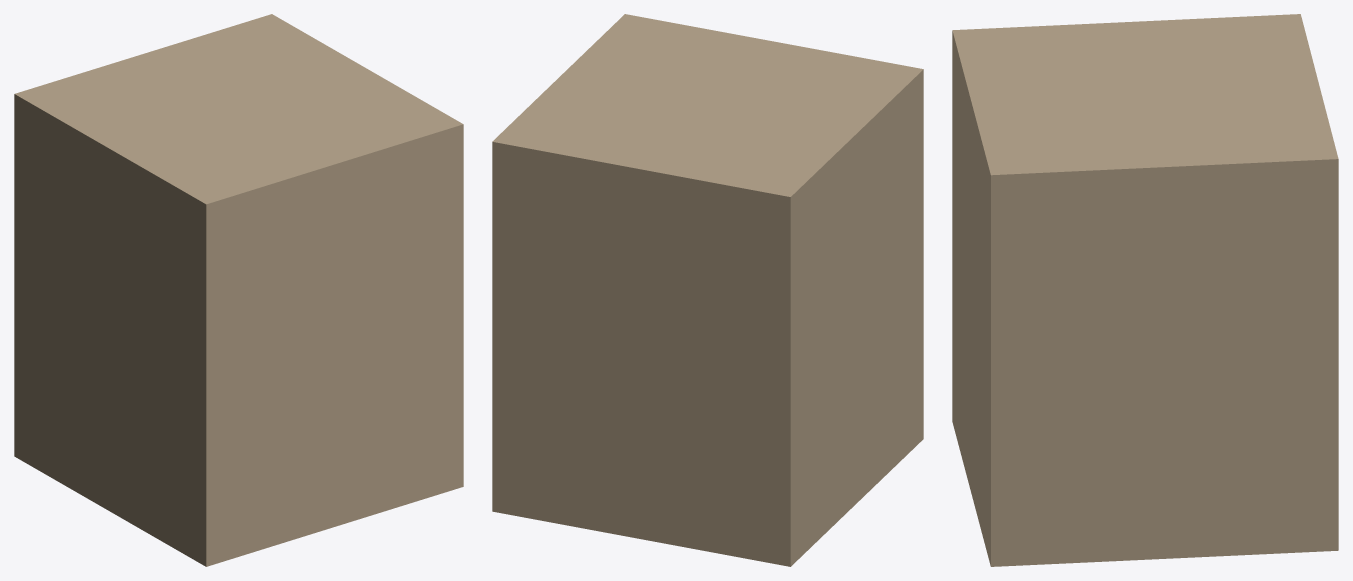
The model's file is bld_106338925.dae.
The picture shows the model from 3 angles, left to right: view 1: azimuth 30°, elevation 25°; view 2: azimuth 150°, elevation 25°; view 3: azimuth 270°, elevation 25°; orthographic projection. The views are drawn at different scales.
Parts seen in each view (by area): view 1: bld_106338925; view 2: bld_106338925; view 3: bld_106338925.
Boxes of the visible parts, x1,y1,x2,y2 form: bld_106338925: (14,14,463,566); bld_106338925: (492,14,923,566); bld_106338925: (952,14,1338,566).
Size of the model in its own units: 7.06 by 7.15 by 8.
